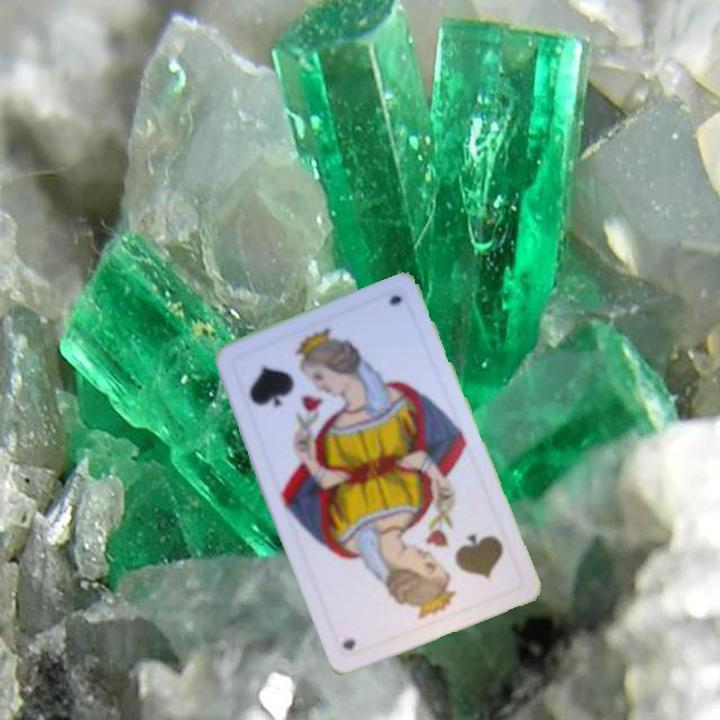s_q.png: (227, 323, 350, 438), (401, 508, 524, 623)
